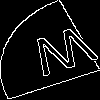W: (25, 25, 100, 86)
